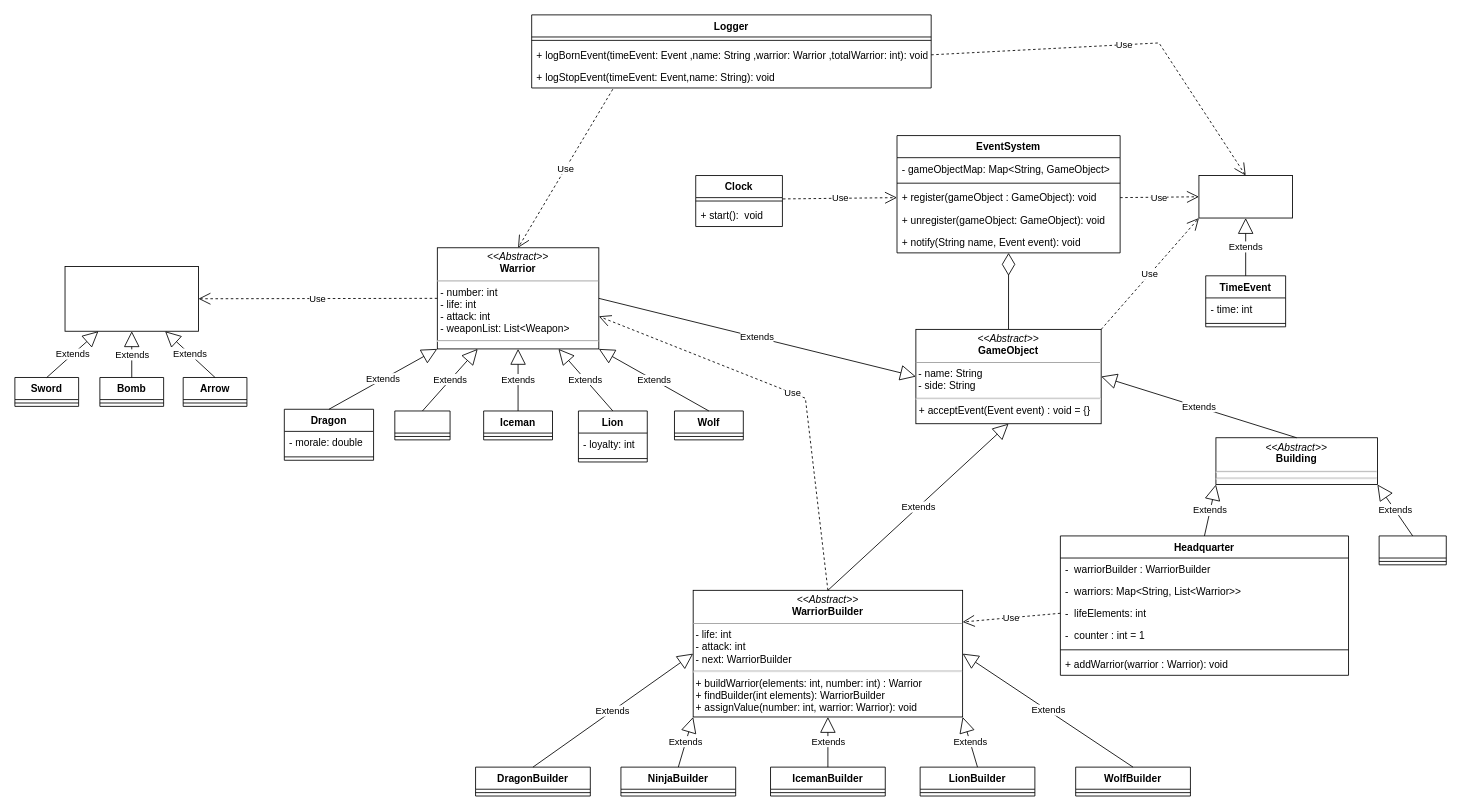
This 1461x811 diagram has some shape labels left out. The shapes that lost their labels are listed below. From the top down, each one's centre as x and y in pixels, then its label:
(1245,196): «interface» Event
(131,298): <<Abstract>> Weapon - weaponNo: int
(422,425): Ninja
(1412,550): Cities
